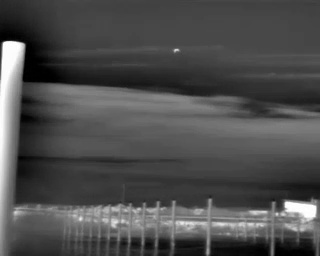BIRD: (171, 45, 182, 56)
